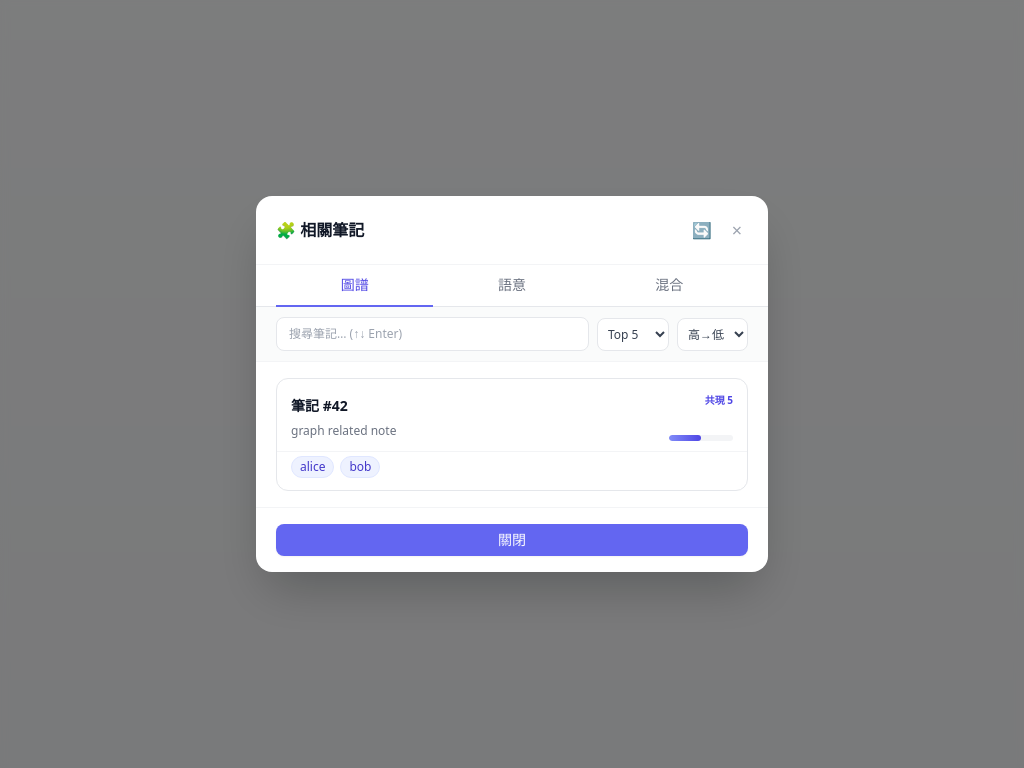
RelatedNotesPanel › Semantic empty — shows embedding hint
The image size is (1024, 768).
expect the list item with test id "card-note-42" is shown: met, box left=276, top=378, right=748, bottom=491
Click the button "語意".
click(512, 286)  # box left=433, top=265, right=591, bottom=307
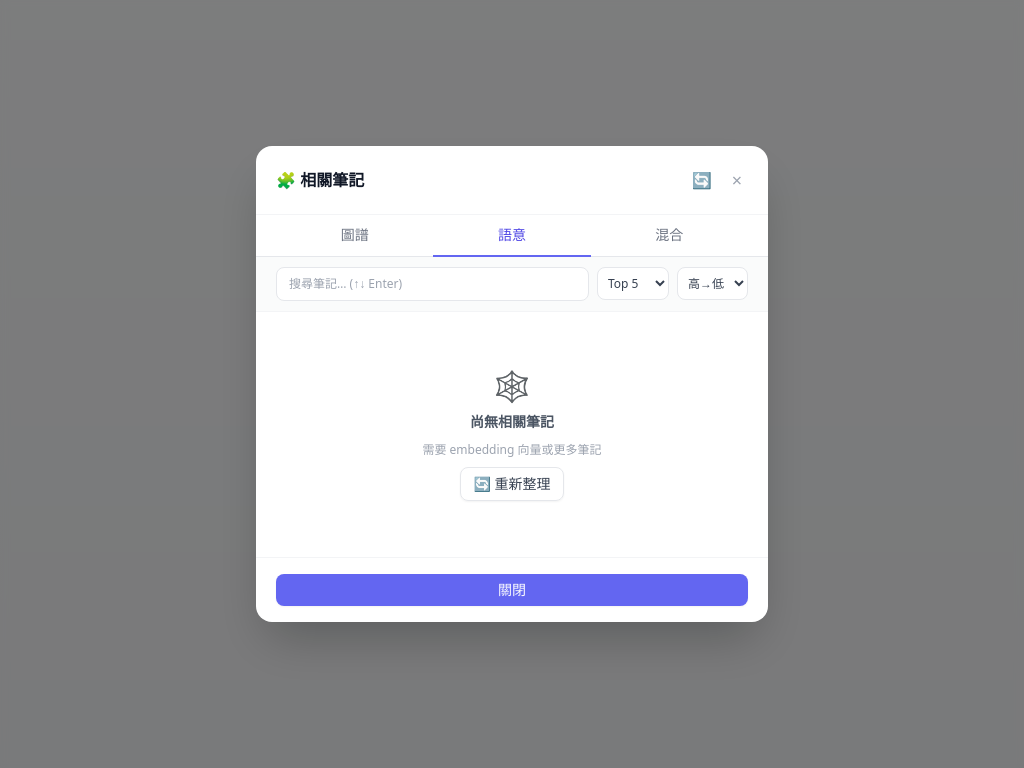
expect the text "尚無相關筆記" is shown: met, box left=470, top=412, right=554, bottom=431
expect the text "需要 embedding 向量或更多筆記" is shown: met, box left=422, top=441, right=602, bottom=458
